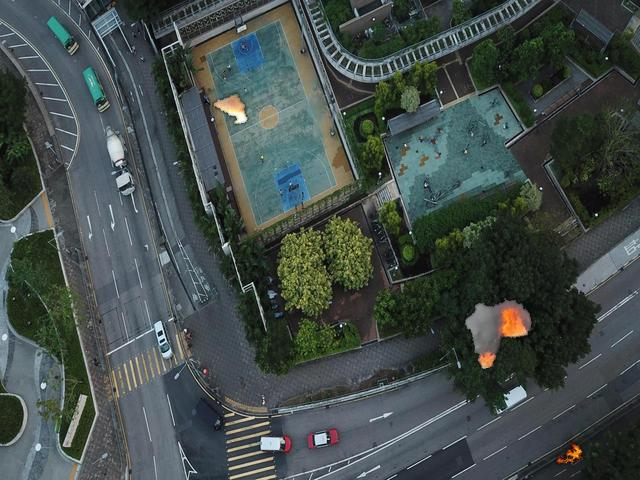fire: (464, 296, 532, 369), (213, 93, 249, 124), (555, 440, 584, 468)
